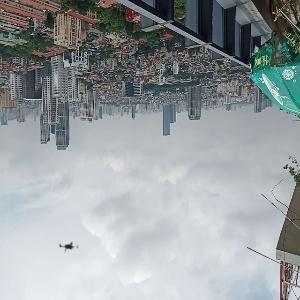drone: (49, 226, 90, 267)
